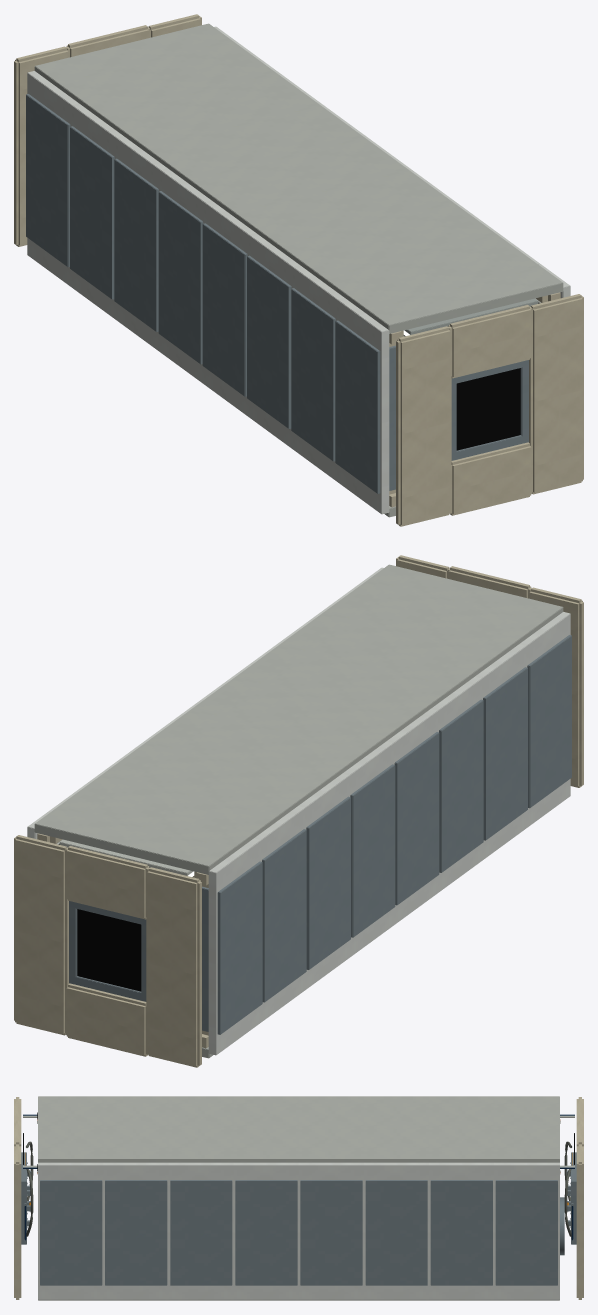
Rendered from kibo.glb.
3 renders of one model, top to bottom at view 1: azimuth 30°, elevation 25°; view 2: azimuth 150°, elevation 25°; view 3: azimuth 270°, elevation 25°, orthographic. The views are drawn at different scales.
Parts seen in each view (by area): view 1: kibo_detailed; view 2: kibo_detailed; view 3: kibo_detailed.
Part boxes in pixels (left/top/right/bottom): kibo_detailed: left=14, top=14, right=583, bottom=526; kibo_detailed: left=14, top=555, right=583, bottom=1067; kibo_detailed: left=14, top=1096, right=583, bottom=1300.
Bounding box in the file's own units: 3.18 × 3 × 10.94.
25 materials, 15 textured.
